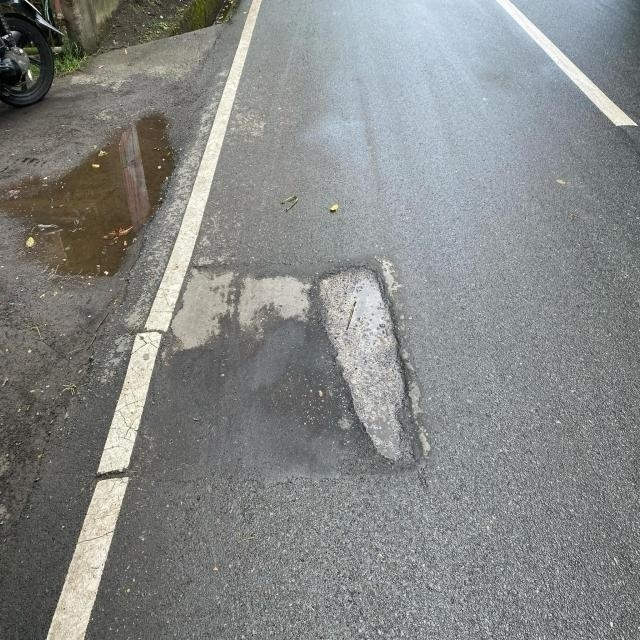pothole: (270, 218, 440, 498)
